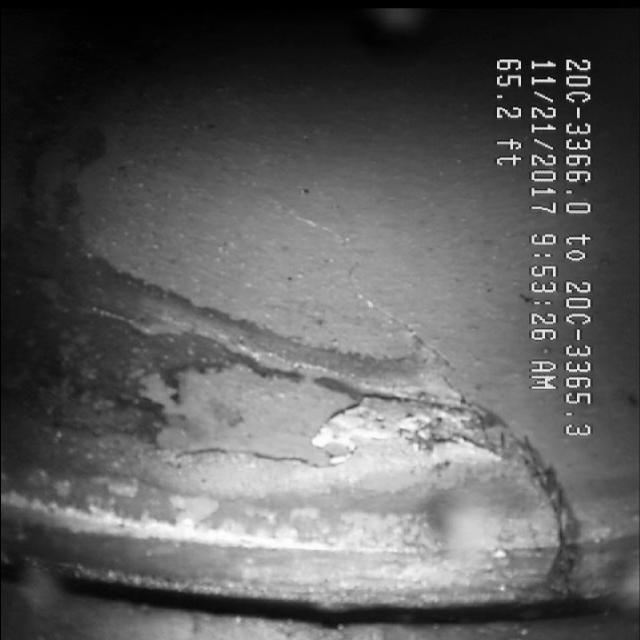Crack: (240, 195, 446, 389)
Fracture: (312, 411, 587, 601)
